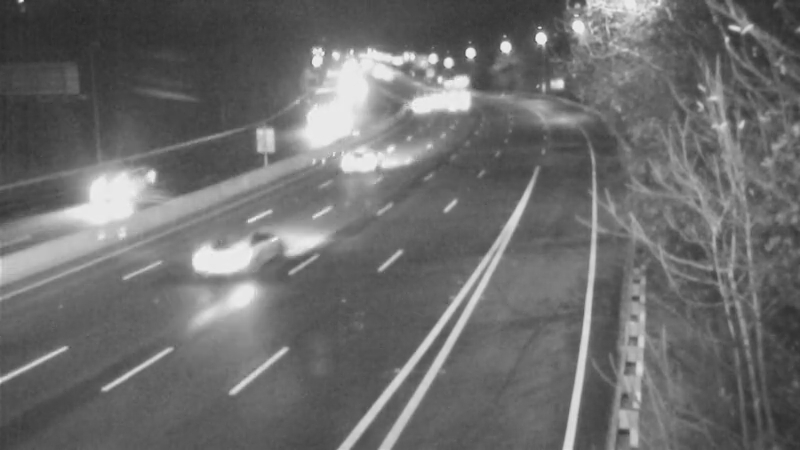vehicle: (317, 122, 397, 202), (172, 215, 252, 295), (76, 149, 156, 229), (435, 61, 485, 111), (414, 72, 464, 122), (429, 79, 479, 129), (389, 77, 439, 127), (299, 96, 349, 146)
